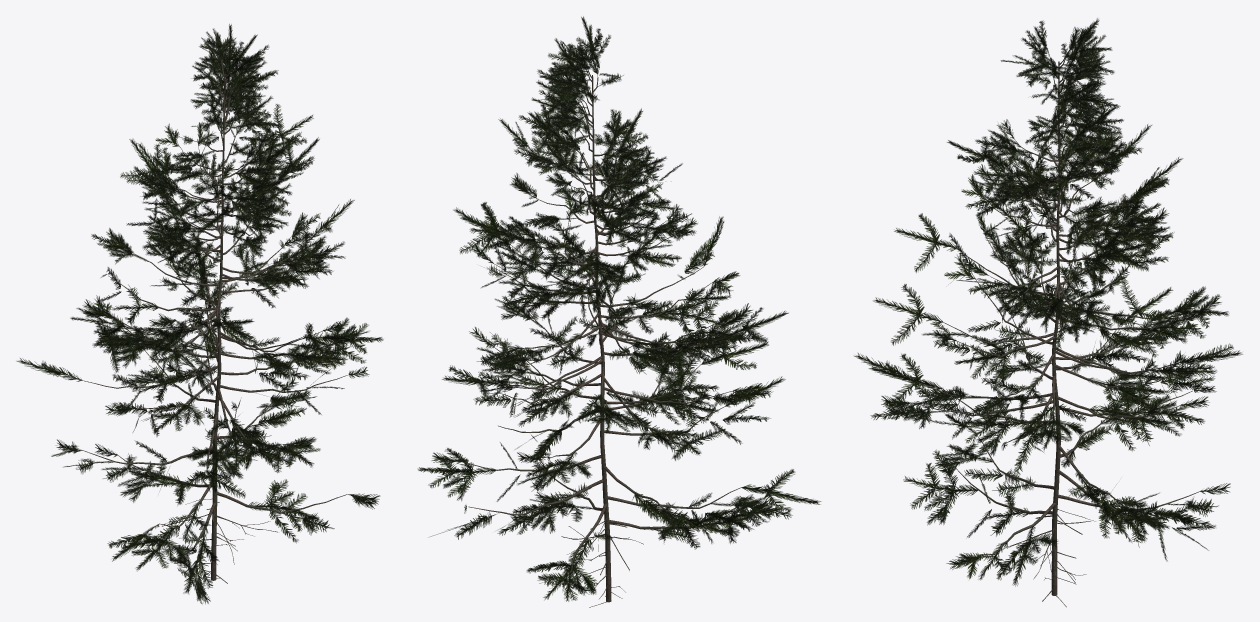
The model's file is fir_sapling_medium_a_LOD1.glb.
The picture shows the model from 3 angles, left to right: view 1: azimuth 30°, elevation 25°; view 2: azimuth 150°, elevation 25°; view 3: azimuth 270°, elevation 25°; orthographic projection. The views are drawn at different scales.
Parts seen in each view (by area): view 1: fir_sapling_medium_a_LOD1.001; view 2: fir_sapling_medium_a_LOD1.001; view 3: fir_sapling_medium_a_LOD1.001.
Boxes of the visible parts, x1=… form: fir_sapling_medium_a_LOD1.001: x1=16, y1=24, x2=383, y2=604; fir_sapling_medium_a_LOD1.001: x1=417, y1=16, x2=821, y2=607; fir_sapling_medium_a_LOD1.001: x1=854, y1=18, x2=1242, y2=607.
Bounding box in the file's own units: 5.06 × 8.86 × 5.32.
Materials: 3 (3 with a texture image).
